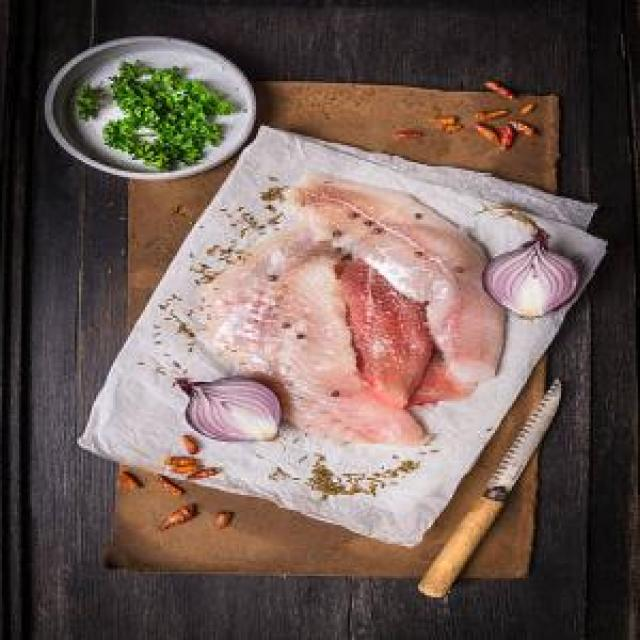knife: (399, 378, 571, 604)
